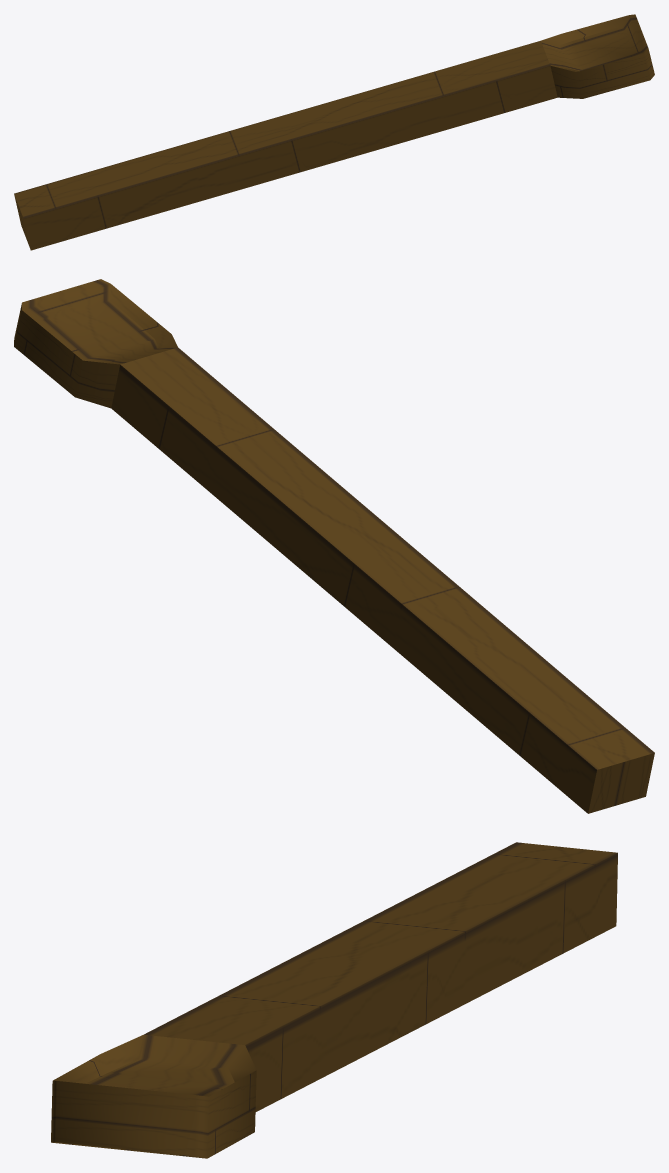
The model's file is Katapult_Werfarm.fbx.
3 views of the same model, one above another, from view 1: azimuth 30°, elevation 25°; view 2: azimuth 150°, elevation 25°; view 3: azimuth 270°, elevation 25° (orthographic). The views are drawn at different scales.
Parts seen in each view (by area): view 1: Katapult Werfarm; view 2: Katapult Werfarm; view 3: Katapult Werfarm.
Part boxes in pixels (x1=…): Katapult Werfarm: x1=14, y1=14, x2=654, y2=250; Katapult Werfarm: x1=14, y1=279, x2=654, y2=813; Katapult Werfarm: x1=51, y1=842, x2=617, y2=1158.
Size of the model in its own units: 142 by 41.99 by 64.84.
